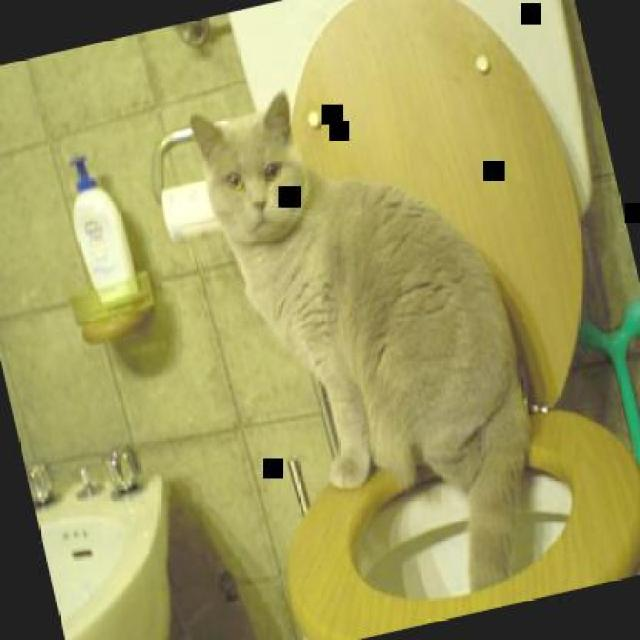cat: (185, 51, 567, 631)
